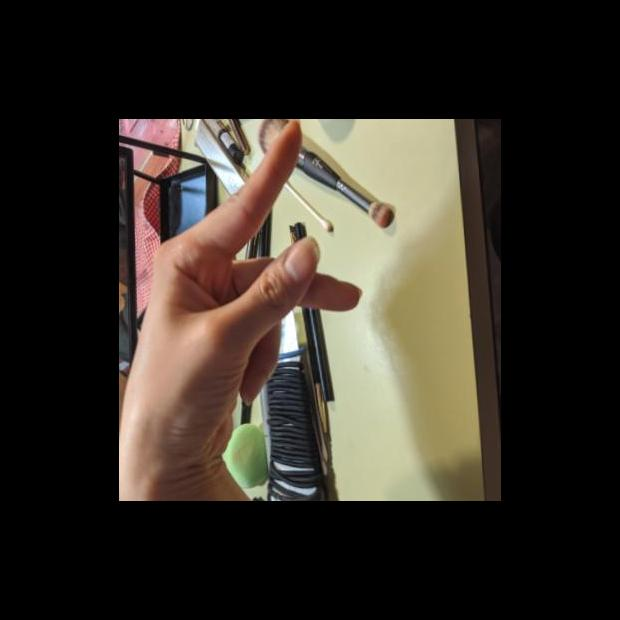O: (119, 119, 370, 467)
